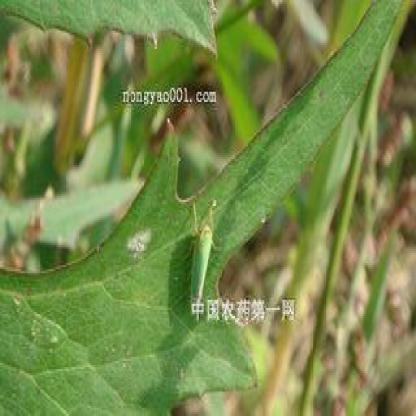Green-Leafhopper: (180, 199, 223, 319)
